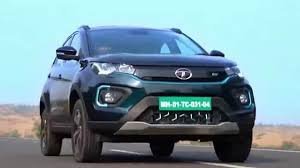Tata Nexon: (38, 22, 257, 166)
